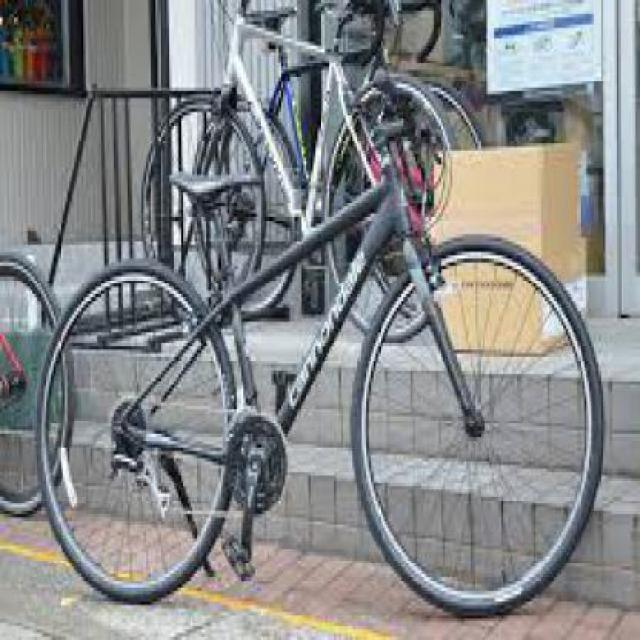bicycle: (41, 123, 607, 617)
